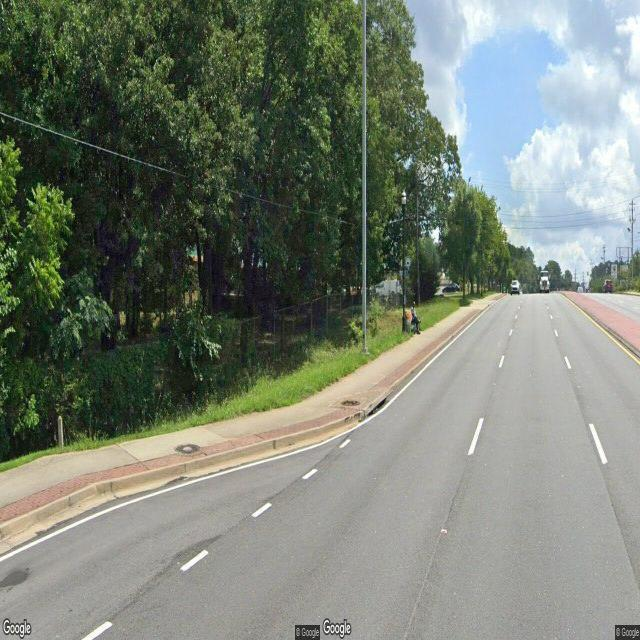seating: (411, 315, 421, 332)
trash_can: (404, 310, 412, 333)
